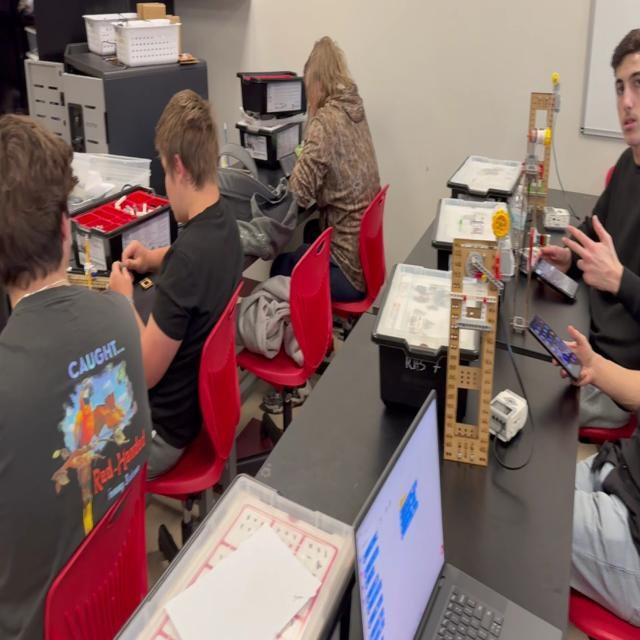pen: (527, 312, 583, 383), (532, 257, 580, 305), (278, 151, 301, 179)
